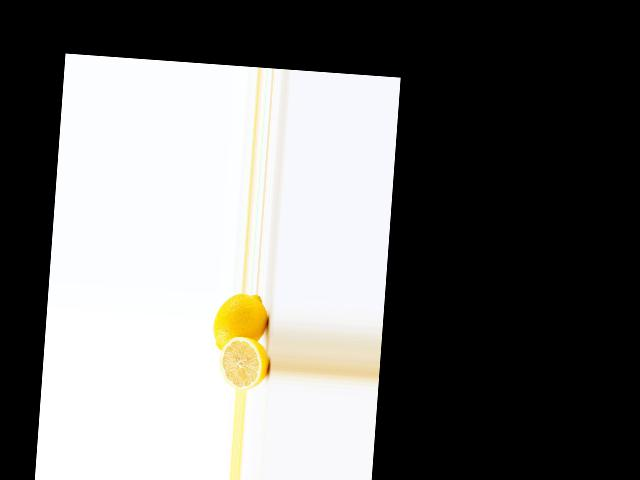lemon: (210, 293, 272, 355)
